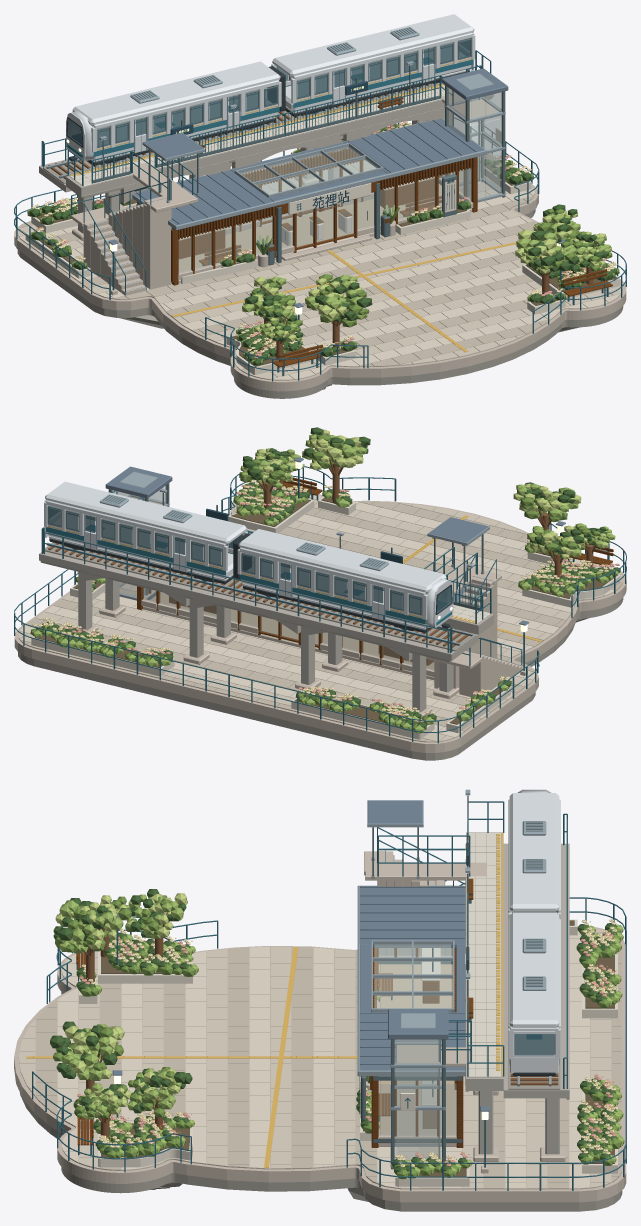
The model's file is transport-station-v9-game-candidate.glb.
The picture shows the model from 3 angles, top to bottom: view 1: azimuth 30°, elevation 25°; view 2: azimuth 150°, elevation 25°; view 3: azimuth 270°, elevation 25°; orthographic projection. The views are drawn at different scales.
Visible parts, largest first — view 1: StationStatic_stone, StationStatic_paverC, StationStatic_glass, StationStatic_paverA, StationStatic_paverB, StationStatic_roof, StationStatic_cream, StationStatic_rail, TrainRollingStock_trainWhite.001, TrainRollingStock_trainWhite.002, StationStatic_concrete, StationStatic_leafDark (+28 smaller); view 2: StationStatic_stone, StationStatic_paverC, StationStatic_paverA, StationStatic_concrete, StationStatic_paverB, TrainRollingStock_trainWhite.002, TrainRollingStock_trainWhite.001, StationStatic_rail, StationStatic_shadowStone, StationStatic_leafLight, StationStatic_leafDark, StationStatic_cream (+26 smaller); view 3: StationStatic_paverB, StationStatic_paverC, StationStatic_paverA, StationStatic_stone, StationStatic_roof, StationStatic_cream, StationStatic_glass, StationStatic_leafDark, StationStatic_rail, StationStatic_leaf, StationStatic_shadowStone, StationStatic_concrete (+19 smaller).
Boxes of the visible parts, box(x1,y1,x2,y2) form: StationStatic_stone: box(14, 93, 626, 391); StationStatic_paverC: box(19, 156, 620, 380); StationStatic_glass: box(179, 73, 501, 273); StationStatic_paverA: box(18, 162, 622, 379); StationStatic_paverB: box(19, 155, 620, 380); StationStatic_roof: box(108, 68, 564, 307); StationStatic_cream: box(25, 85, 620, 374); StationStatic_rail: box(14, 50, 626, 381); TrainRollingStock_trainWhite.001: box(271, 14, 475, 113); TrainRollingStock_trainWhite.002: box(72, 61, 281, 162); StationStatic_concrete: box(39, 84, 493, 233); StationStatic_leafDark: box(29, 124, 617, 365); StationStatic_stone: box(14, 494, 626, 752); StationStatic_paverC: box(19, 501, 621, 742); StationStatic_paverA: box(18, 490, 622, 741); StationStatic_concrete: box(39, 551, 493, 712); StationStatic_paverB: box(20, 488, 620, 737); TrainRollingStock_trainWhite.002: box(237, 529, 446, 629); TrainRollingStock_trainWhite.001: box(44, 481, 247, 580); StationStatic_rail: box(14, 466, 626, 743); StationStatic_shadowStone: box(18, 542, 623, 760); StationStatic_leafLight: box(32, 434, 618, 733); StationStatic_leafDark: box(35, 427, 620, 729); StationStatic_cream: box(31, 490, 620, 739); StationStatic_paverB: box(57, 930, 589, 1188); StationStatic_paverC: box(19, 942, 621, 1189); StationStatic_paverA: box(18, 928, 611, 1188); StationStatic_stone: box(14, 851, 626, 1202); StationStatic_roof: box(112, 800, 489, 1111); StationStatic_cream: box(79, 833, 617, 1187); StationStatic_glass: box(374, 944, 456, 1160); StationStatic_leafDark: box(50, 889, 618, 1174); StationStatic_rail: box(32, 801, 626, 1190); StationStatic_leaf: box(53, 895, 621, 1179); StationStatic_shadowStone: box(20, 833, 622, 1211); StationStatic_concrete: box(465, 832, 569, 1154).
Size of the model in its own units: 20.38 by 7.43 by 19.84.
Materials: 33 (2 with a texture image).
